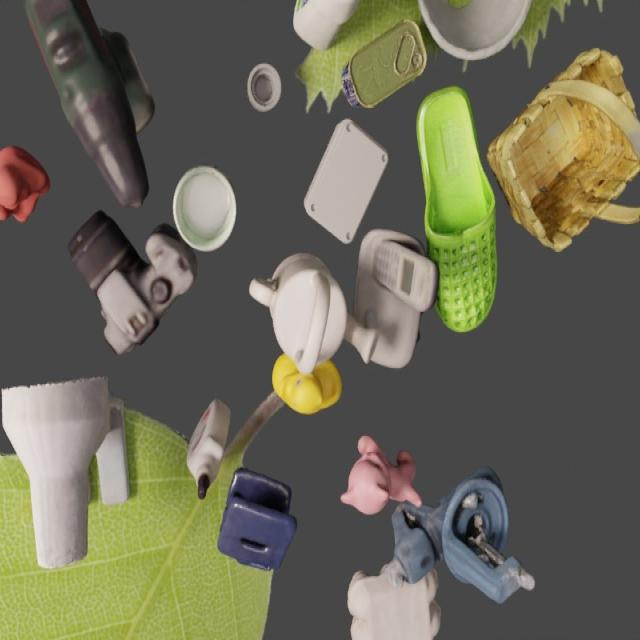Other Objects: (25, 1, 155, 208), (417, 87, 497, 332), (70, 212, 197, 355), (346, 229, 438, 368), (250, 255, 348, 375), (305, 120, 389, 244), (219, 469, 297, 571), (344, 21, 427, 108), (348, 564, 441, 640), (419, 1, 532, 60), (341, 436, 422, 515), (173, 167, 237, 252), (187, 400, 231, 499), (273, 355, 342, 415), (1, 147, 50, 221), (248, 64, 282, 112)
